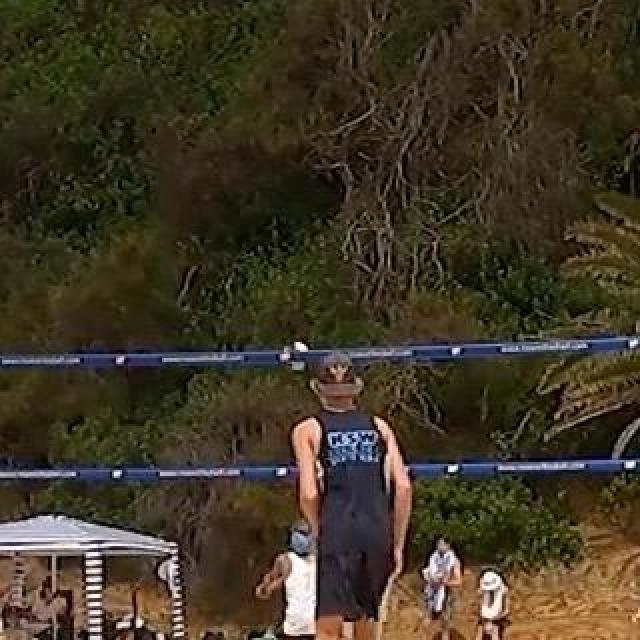volleyball: (281, 342, 311, 370)
